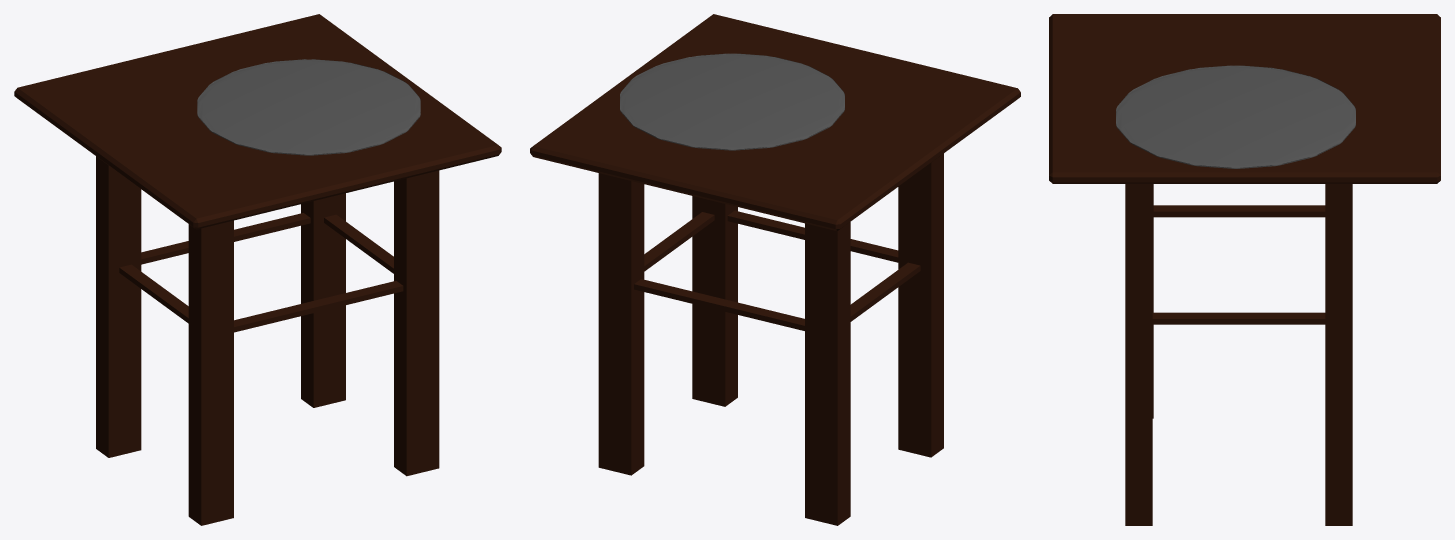
File: Table-Hallway.FBX
The picture shows the model from 3 angles, left to right: view 1: azimuth 30°, elevation 25°; view 2: azimuth 150°, elevation 25°; view 3: azimuth 270°, elevation 25°; orthographic projection. The views are drawn at different scales.
Visible parts, largest first — view 1: Box001, Cylinder001; view 2: Box001, Cylinder001; view 3: Box001, Cylinder001.
Boxes of the visible parts, bbox=[...] form: Box001: bbox=[14, 14, 501, 525]; Cylinder001: bbox=[197, 59, 420, 155]; Box001: bbox=[530, 14, 1020, 525]; Cylinder001: bbox=[620, 53, 844, 150]; Box001: bbox=[1049, 14, 1440, 525]; Cylinder001: bbox=[1116, 65, 1355, 168].
Size of the model in its own units: 44.39 by 47.25 by 45.5.
